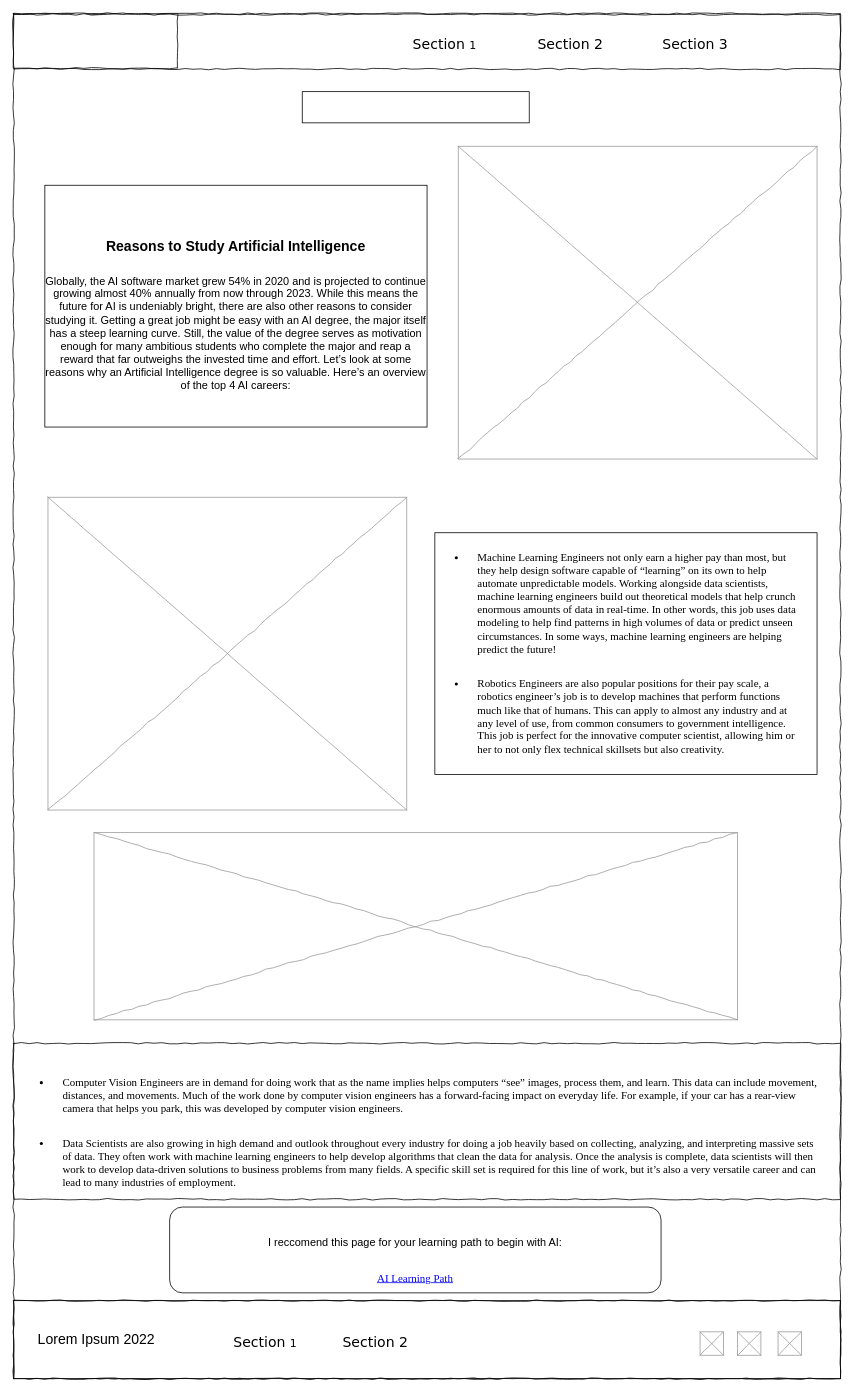
Some shapes in this 854 by 1399 pixel diagram are drawn without their labels. The shapes that lost their labels are listed below. From the top down, each one's box as (x1, y1, x2, y2) in pixels, then its label:
(13, 13, 177, 68): LOGO
(301, 91, 529, 123): AI - Learning Path
